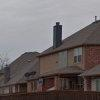Chimney: (47, 18, 68, 52)
